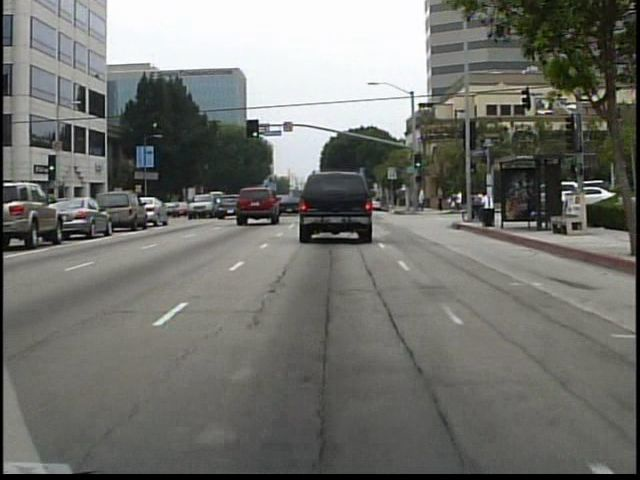person: (416, 184, 430, 216), (435, 181, 448, 214), (394, 189, 400, 209)
